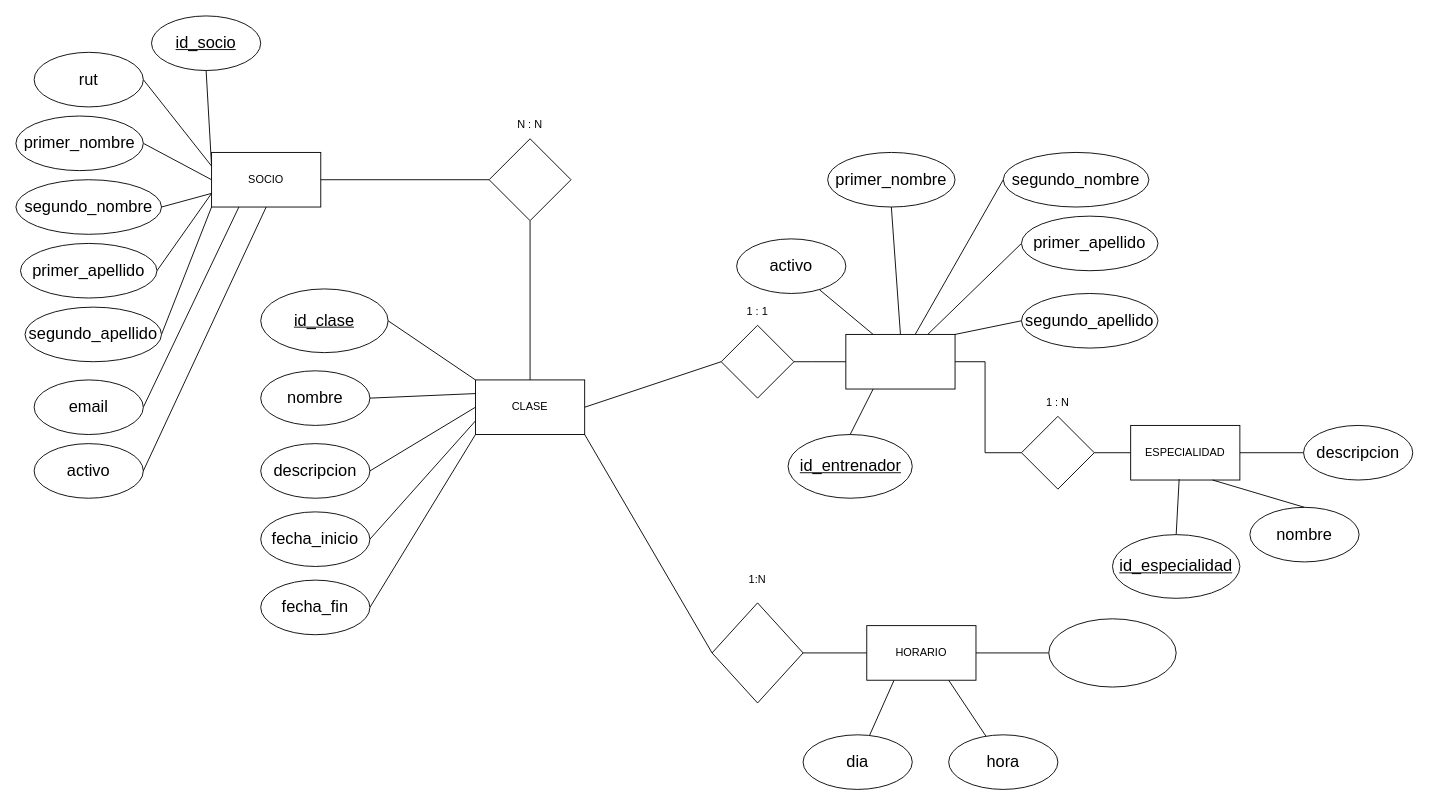
Some shapes in this 1429 by 805 pixel diagram are drawn without their labels. The shapes that lost their labels are listed below. From the top down, each one's box as (x1, y1, x2, y2) in pixels, then its label:
(488, 138, 571, 221): PERTENECE
(720, 324, 794, 398): IMPARTIDA
(845, 334, 955, 389): ENTRENADOR
(1021, 415, 1094, 489): POSEE
(711, 602, 803, 703): SE IMPARTE EL
(1048, 618, 1176, 687): id_horario
